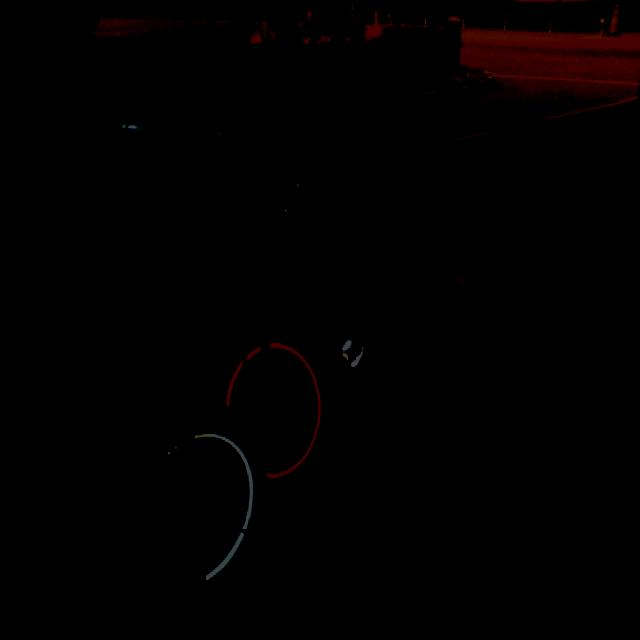Motorbike: (106, 95, 353, 496)
